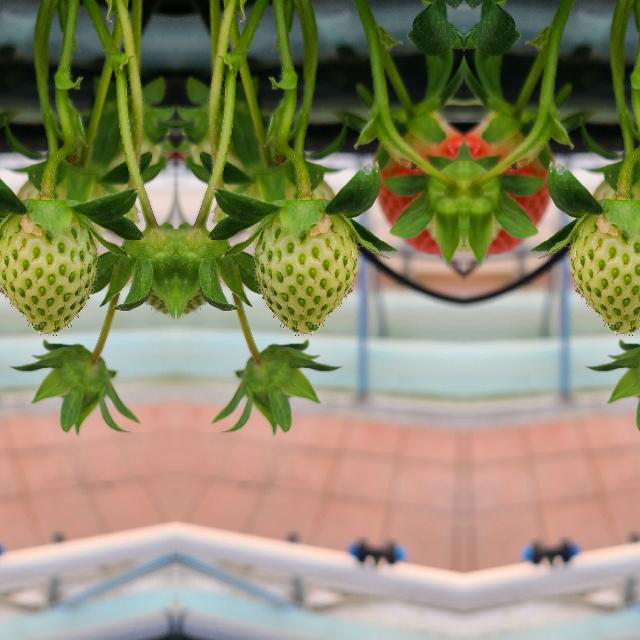Health_25: (253, 215, 357, 333), (0, 215, 97, 333), (569, 215, 640, 333)
